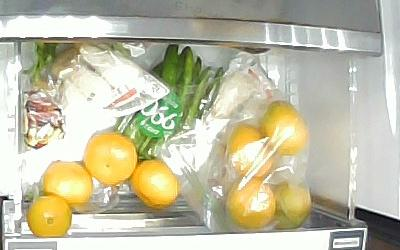tangerine: (85, 134, 137, 189), (39, 160, 95, 210), (132, 159, 179, 210), (28, 193, 73, 238)
tangerine_vinyl: (226, 176, 277, 230), (225, 124, 274, 178), (265, 99, 307, 157), (269, 181, 312, 229)
